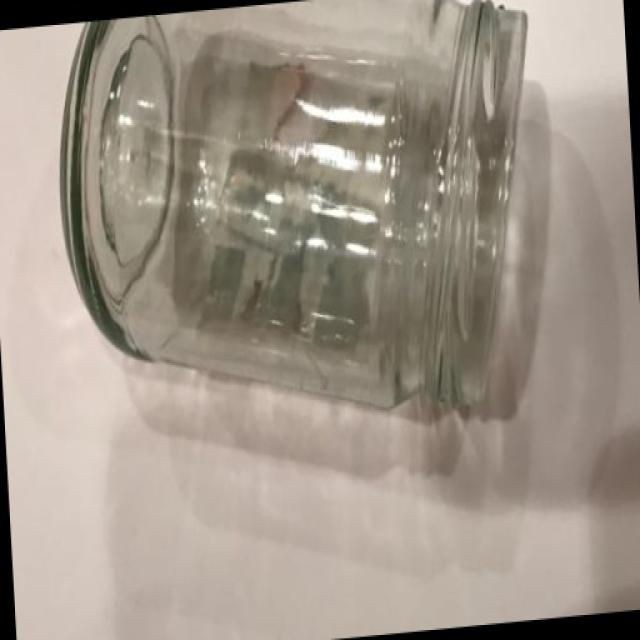vidrio: (60, 10, 552, 484)
